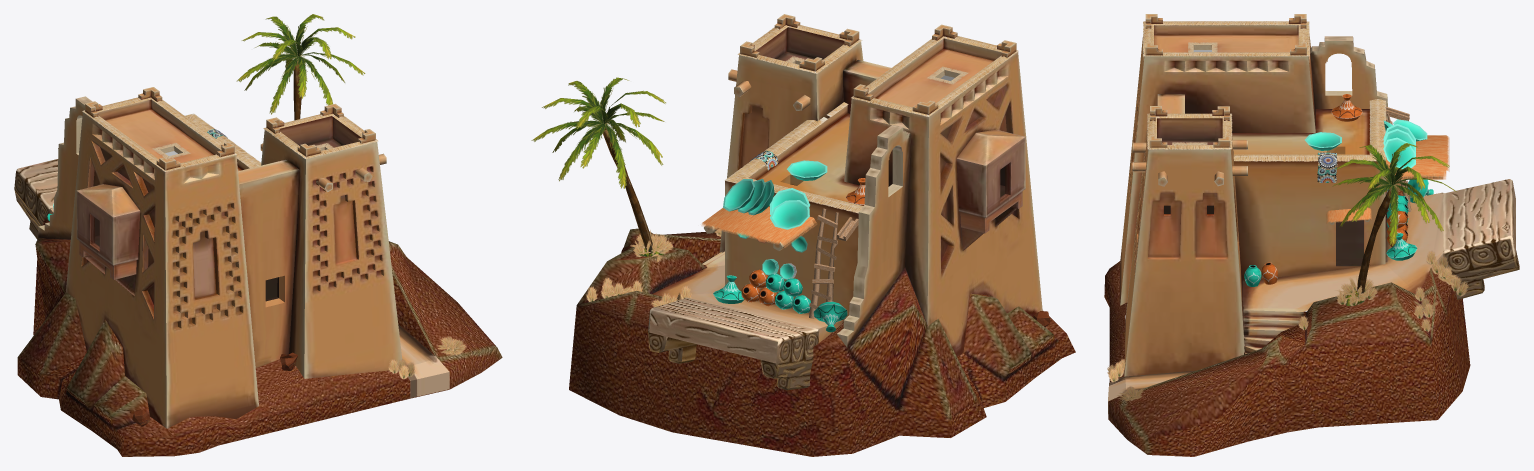
File: kasbah-abh.glb
3 views of the same model, side by side, from view 1: azimuth 30°, elevation 25°; view 2: azimuth 150°, elevation 25°; view 3: azimuth 270°, elevation 25° (orthographic). The views are drawn at different scales.
Visible parts, largest first — view 1: brede toren, Rock_rock_0, smalle toren, hoge muur, hangende hut, weg, palm trunk_objects_0, roof top objects_objects_0, breed dak, kapotte muur raam, smal dak; view 2: Rock_rock_0, brede toren, weg, kapotte muur raam, smalle toren, shop001, hangende hut, roof top objects_objects_0, palm trunk_objects_0, shop dak, breed dak, reed roof_objects_0 (+8 smaller); view 3: Rock_rock_0, smalle toren, weg, shop001, brede toren, roof top objects_objects_0, palm trunk_objects_0, breed dak, shop dak, kapotte muur raam, smal dak, reed roof_objects_0 (+8 smaller).
Part boxes in pixels (box(x1,y1,x2,y2)): brede toren: box(66, 112, 258, 428); Rock_rock_0: box(17, 218, 502, 456); smalle toren: box(261, 130, 402, 378); hoge muur: box(238, 159, 299, 367); hangende hut: box(76, 184, 140, 295); weg: box(14, 159, 449, 397); palm trunk_objects_0: box(236, 14, 365, 120); roof top objects_objects_0: box(58, 97, 378, 171); breed dak: box(98, 99, 220, 162); kapotte muur raam: box(38, 96, 92, 239); smal dak: box(280, 116, 361, 149); Rock_rock_0: box(569, 228, 1075, 456); brede toren: box(844, 52, 1042, 356); weg: box(648, 250, 845, 390); kapotte muur raam: box(837, 125, 911, 347); smalle toren: box(719, 42, 863, 252); shop001: box(725, 180, 858, 317); hangende hut: box(956, 129, 1025, 250); roof top objects_objects_0: box(725, 25, 1018, 241); palm trunk_objects_0: box(531, 77, 665, 253); shop dak: box(748, 105, 858, 211); breed dak: box(868, 38, 1001, 107); reed roof_objects_0: box(701, 206, 816, 247); Rock_rock_0: box(1104, 189, 1470, 456); smalle toren: box(1124, 125, 1244, 376); weg: box(1108, 179, 1519, 413); shop001: box(1234, 161, 1385, 280); brede toren: box(1119, 34, 1315, 305); roof top objects_objects_0: box(1143, 21, 1409, 161); palm trunk_objects_0: box(1332, 143, 1457, 293); breed dak: box(1154, 25, 1298, 52); shop dak: box(1232, 109, 1369, 154); kapotte muur raam: box(1310, 36, 1426, 195); smal dak: box(1157, 118, 1222, 144); reed roof_objects_0: box(1385, 135, 1449, 179).
Bounding box in the file's own units: 1661 × 1127 × 1533.
9 materials, 7 textured.
